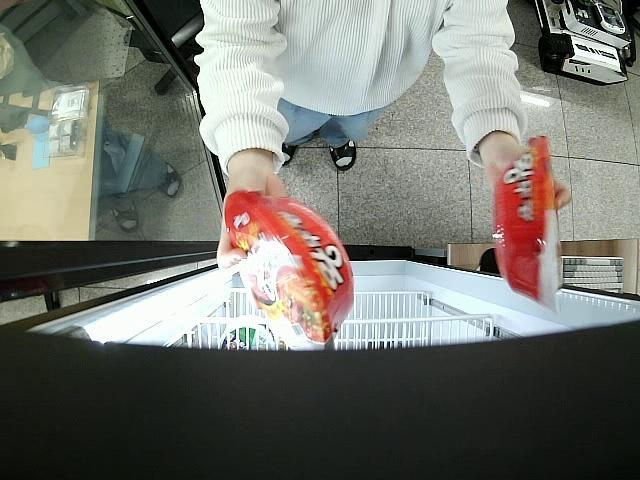10_wangTtukkeong: (224, 192, 354, 351), (493, 136, 561, 314)
